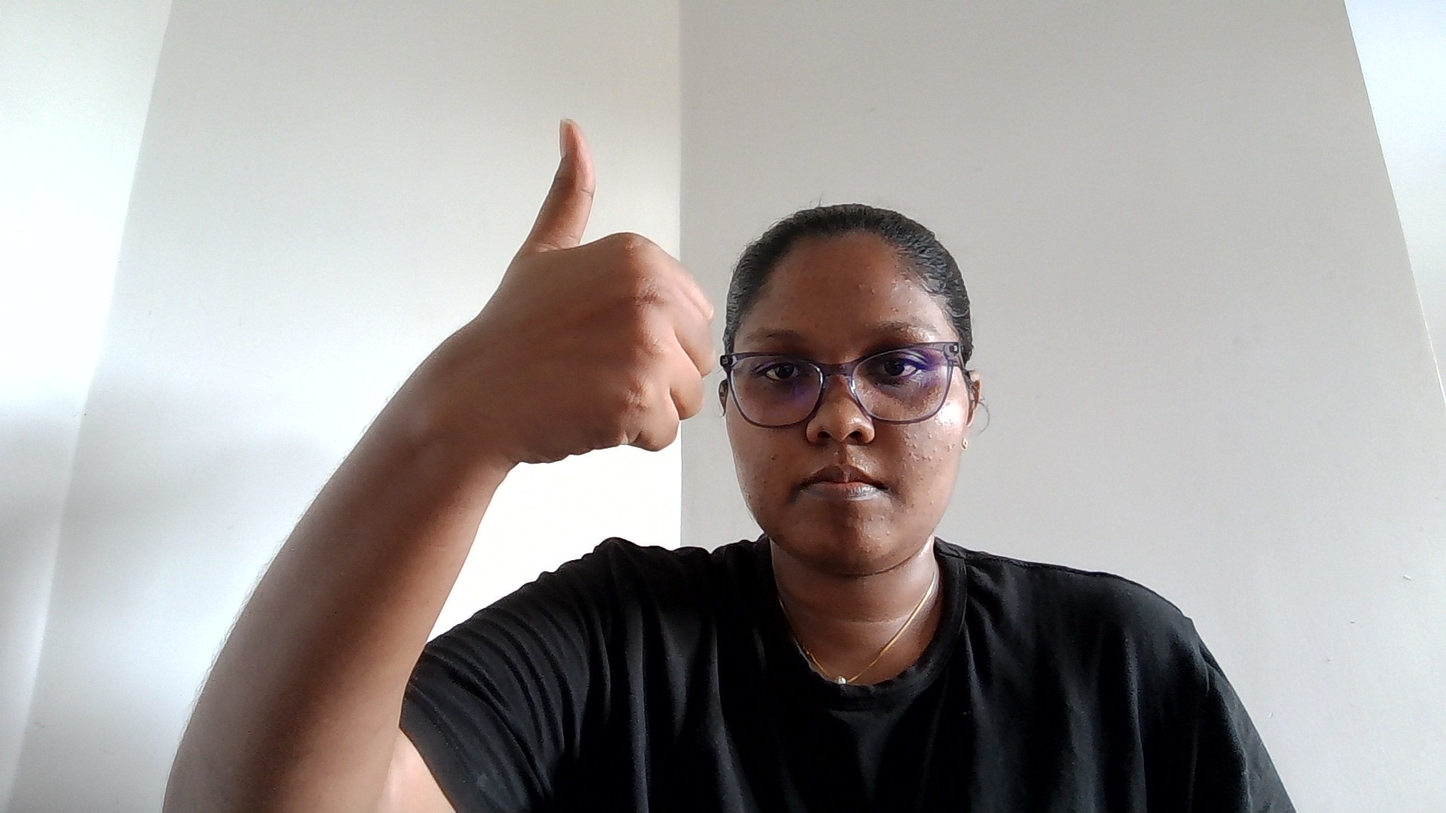Thumbs Up: (341, 75, 768, 538)
